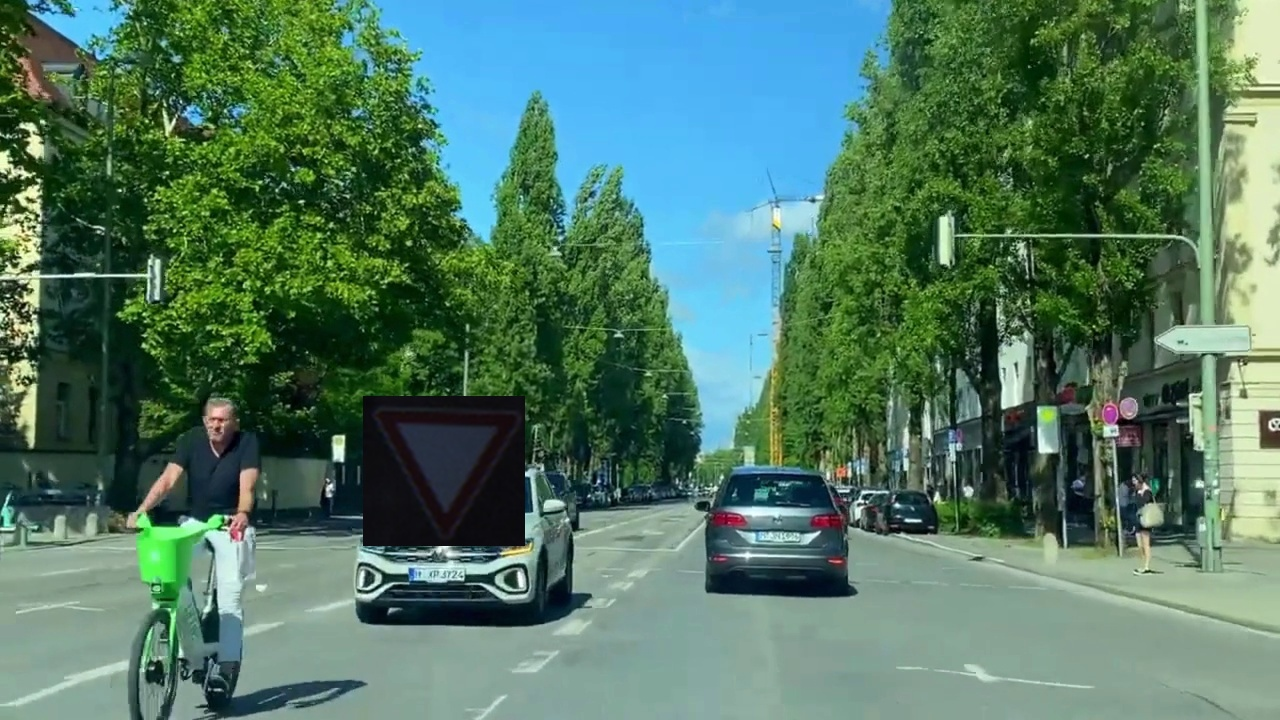Yield: (363, 396, 525, 546)
